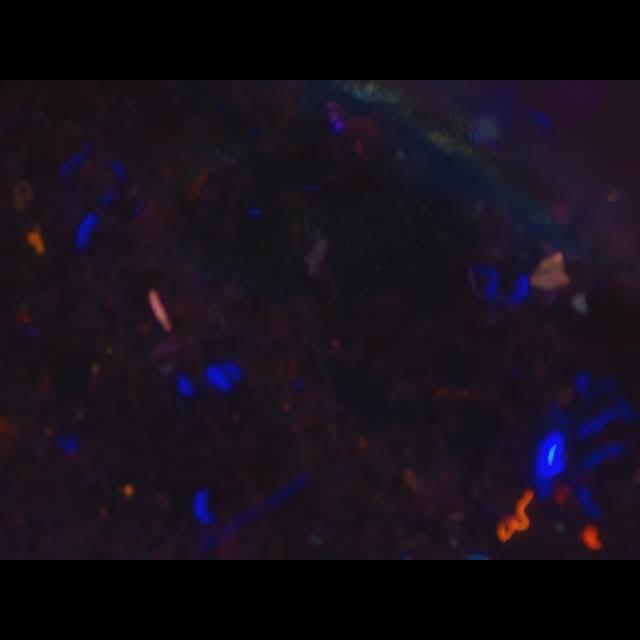Fragment: (147, 288, 173, 334)
